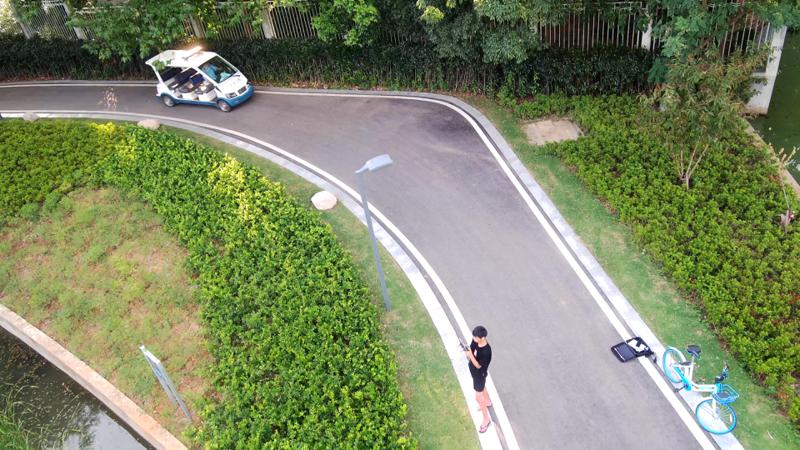passerby: (462, 325, 493, 435)
